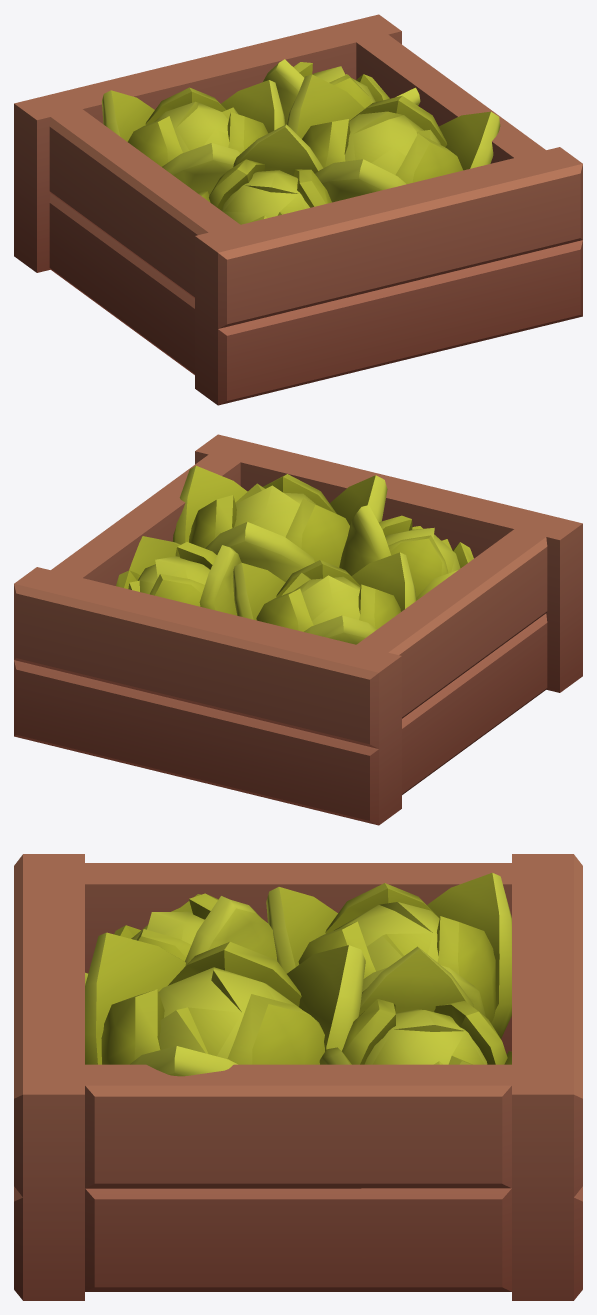
File: kay-crate_lettuce.glb
The picture shows the model from 3 angles, top to bottom: view 1: azimuth 30°, elevation 25°; view 2: azimuth 150°, elevation 25°; view 3: azimuth 270°, elevation 25°; orthographic projection. The views are drawn at different scales.
Visible parts, largest first — view 1: crate_lettuce; view 2: crate_lettuce; view 3: crate_lettuce.
Boxes of the visible parts, x1=… form: crate_lettuce: x1=14, y1=14, x2=582, y2=405; crate_lettuce: x1=14, y1=434, x2=582, y2=825; crate_lettuce: x1=14, y1=854, x2=582, y2=1300.
Size of the model in its own units: 0.6 by 0.2994 by 0.6.
Materials: 1 (1 with a texture image).
